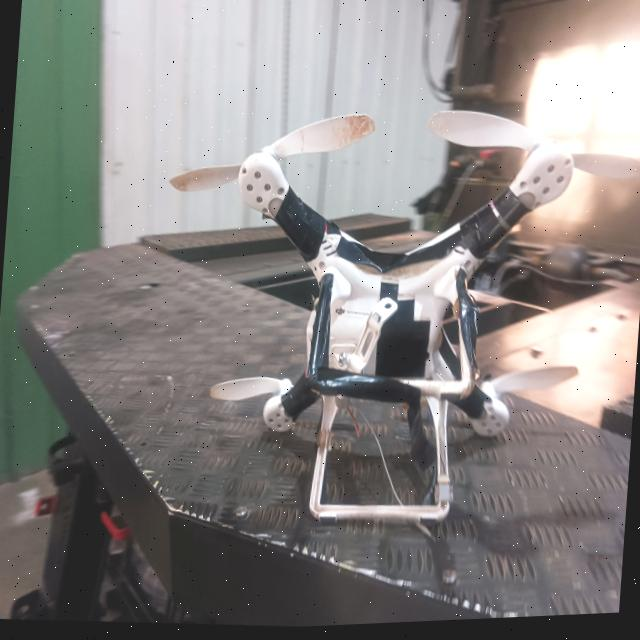drone: (121, 80, 640, 572)
